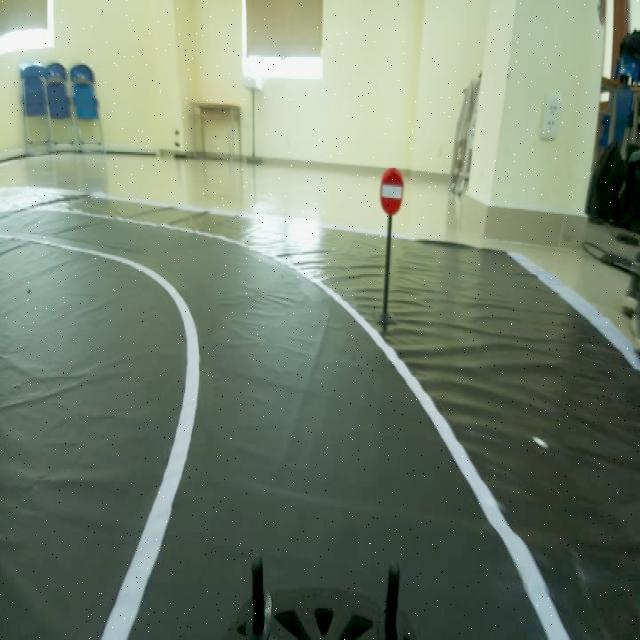no_entry: (373, 152, 415, 222)
